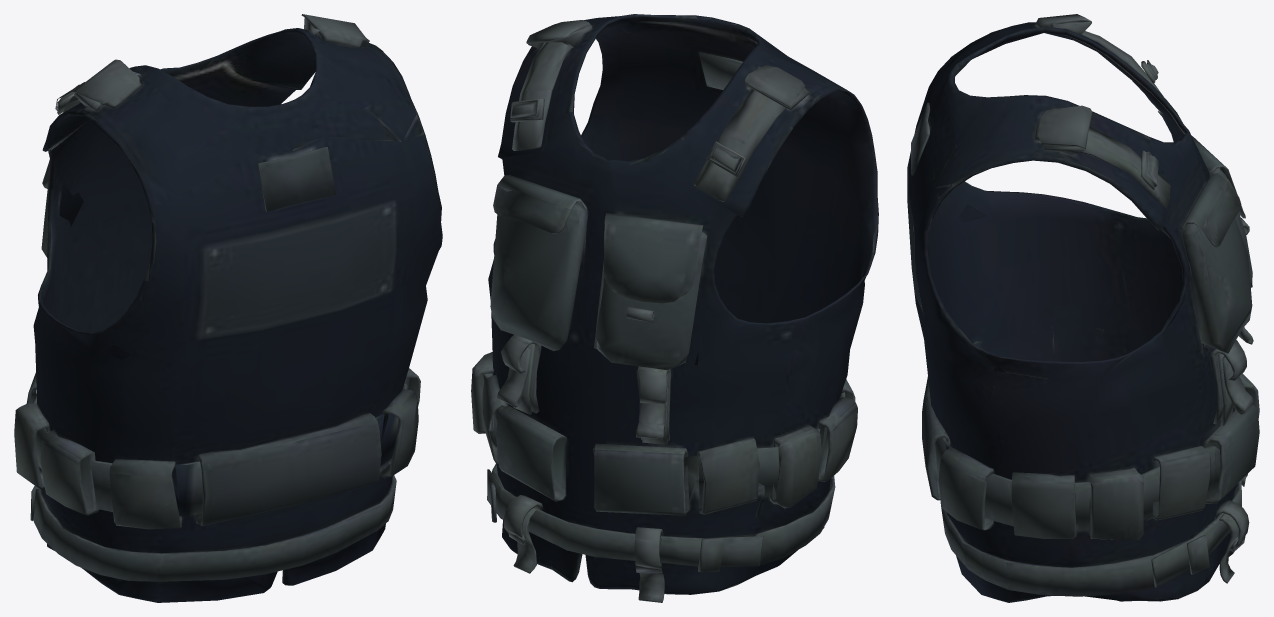
The model's file is office-gear-armor-vest.glb.
3 renders of one model, left to right at view 1: azimuth 30°, elevation 25°; view 2: azimuth 150°, elevation 25°; view 3: azimuth 270°, elevation 25°, orthographic. The views are drawn at different scales.
Visible parts, largest first — view 1: gear-armor-vest; view 2: gear-armor-vest; view 3: gear-armor-vest.
Boxes of the visible parts, bbox=[...] form: gear-armor-vest: bbox=[14, 14, 442, 602]; gear-armor-vest: bbox=[471, 14, 878, 602]; gear-armor-vest: bbox=[907, 14, 1259, 602].
Size of the model in its own units: 0.4586 by 0.62 by 0.4077.
Materials: 1 (1 with a texture image).
